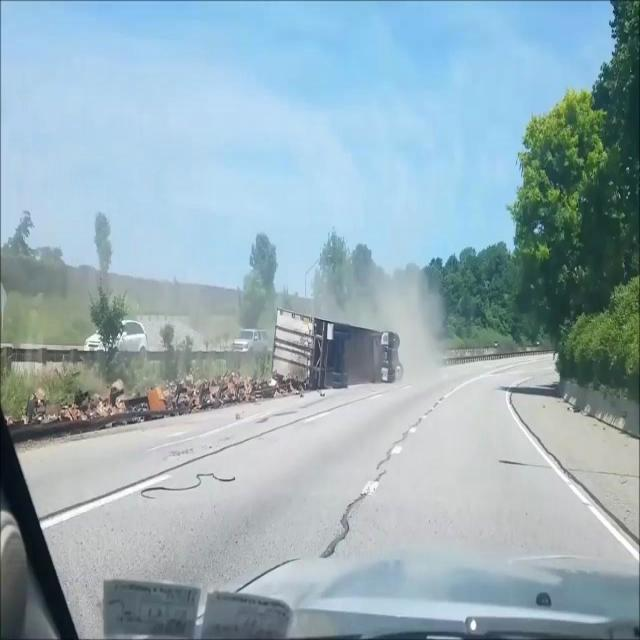severe: (270, 303, 406, 394)
